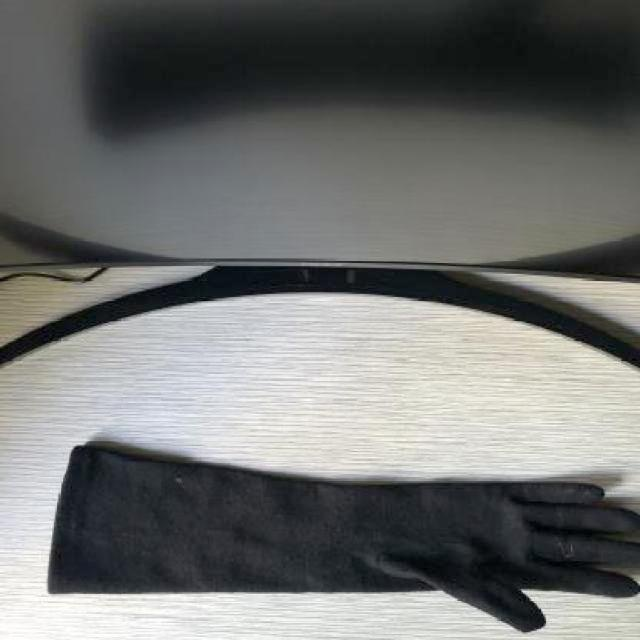Guantes: (56, 427, 640, 640)
